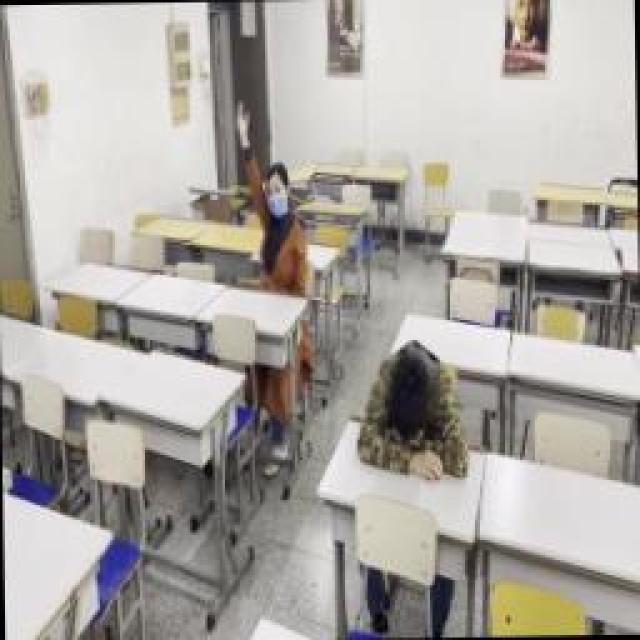sleep: (358, 340, 468, 478)
study: (238, 100, 308, 292)
